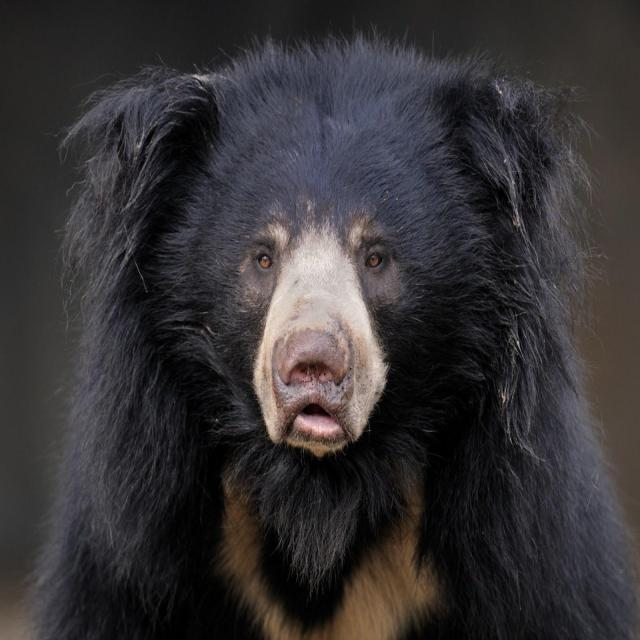Bear: (29, 36, 640, 640)
